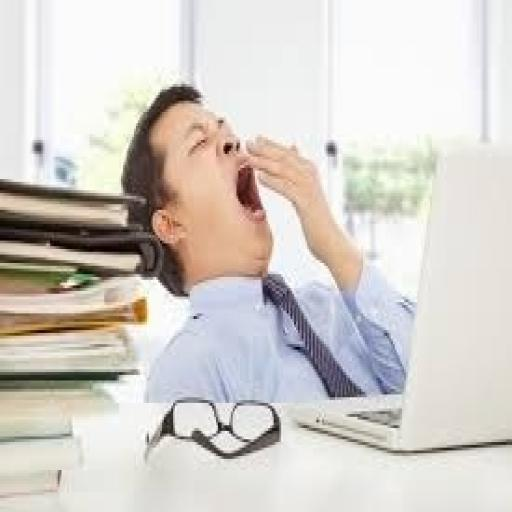sleeping: (119, 78, 417, 406)
